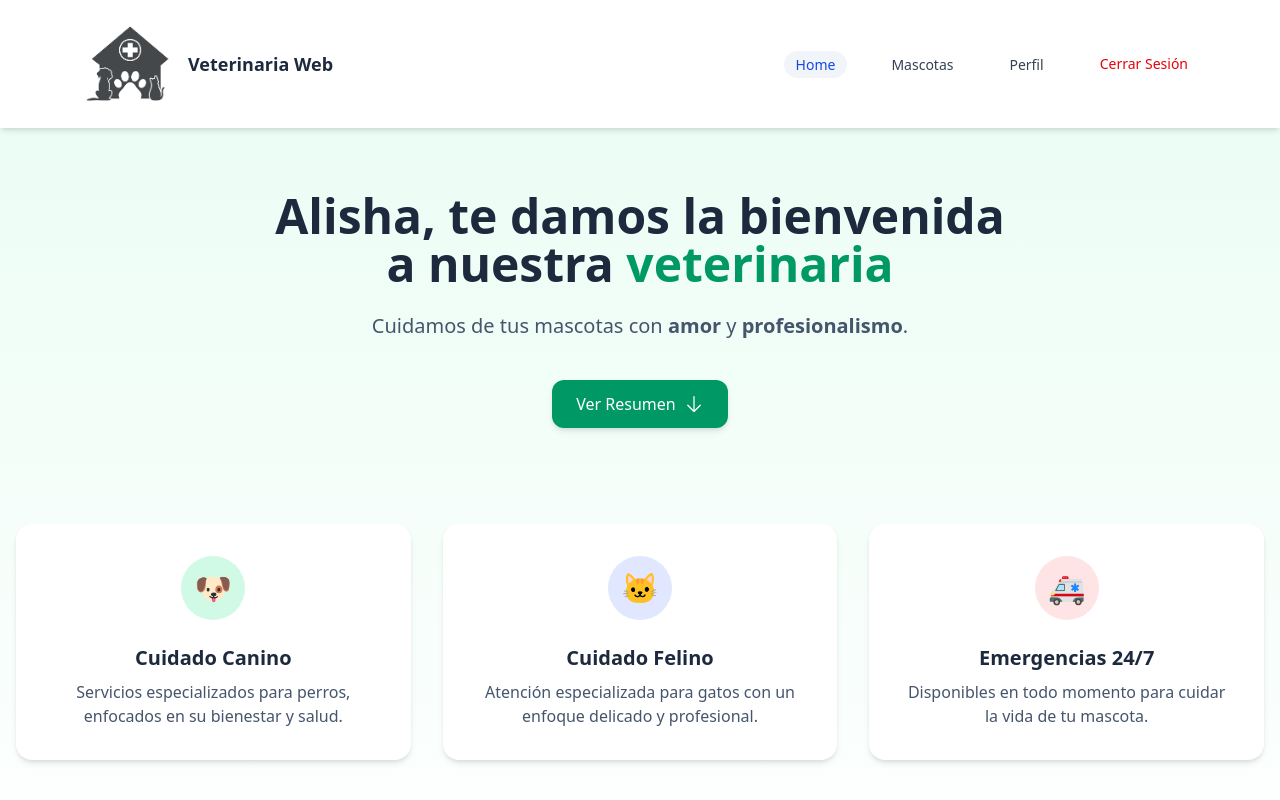
Pruebas Home - Mostrar Resumen › should show client summary after clicking 'Ver Resumen'
The image size is (1280, 800).
Click the button "Ver Resumen". click: {"x": 640, "y": 404}
box: [552,380,728,428]
(page scrolled)
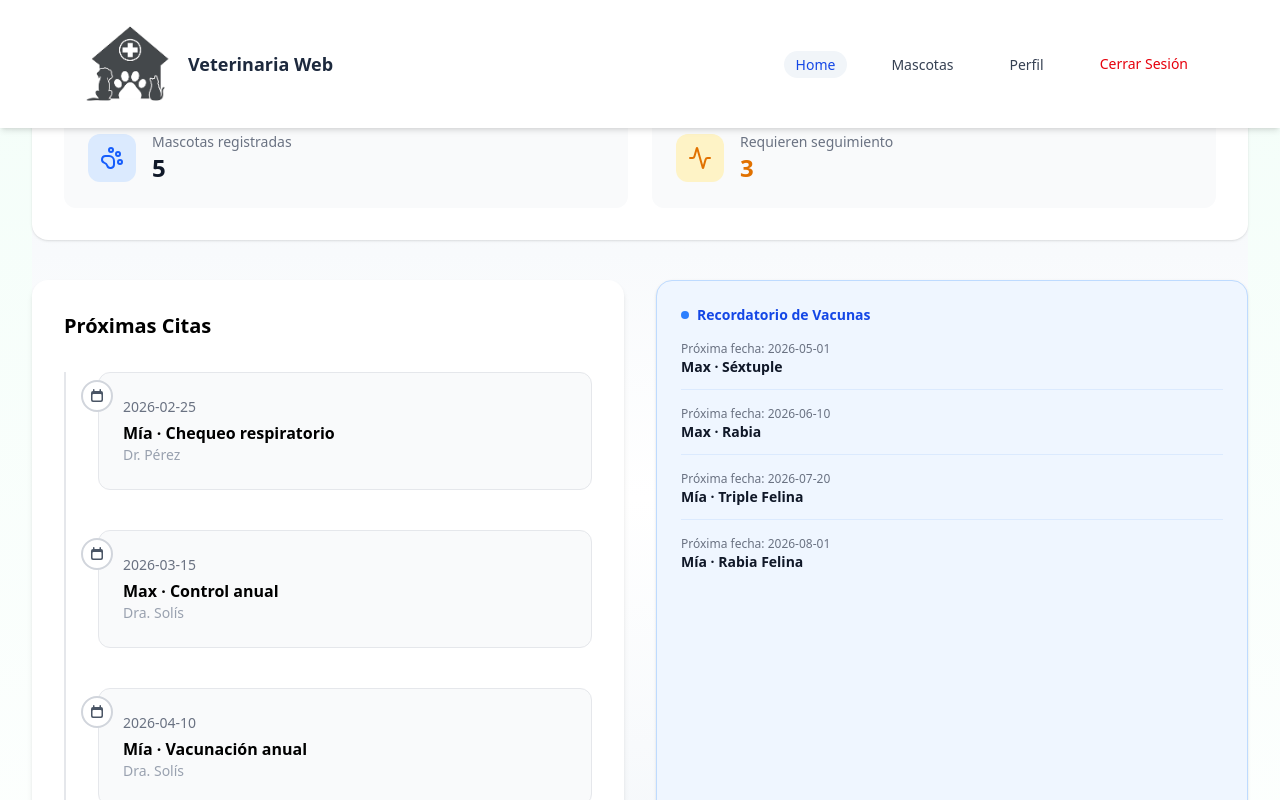
Expected: the element with test id "client-summary" is shown
